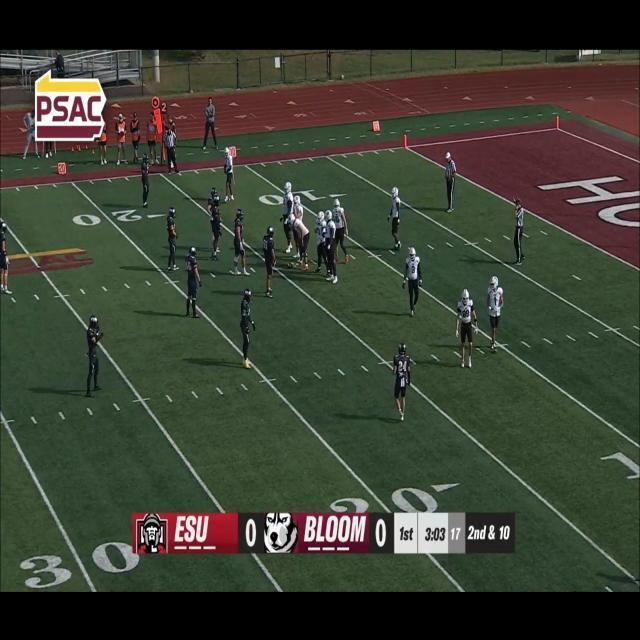football: (286, 260, 298, 272)
